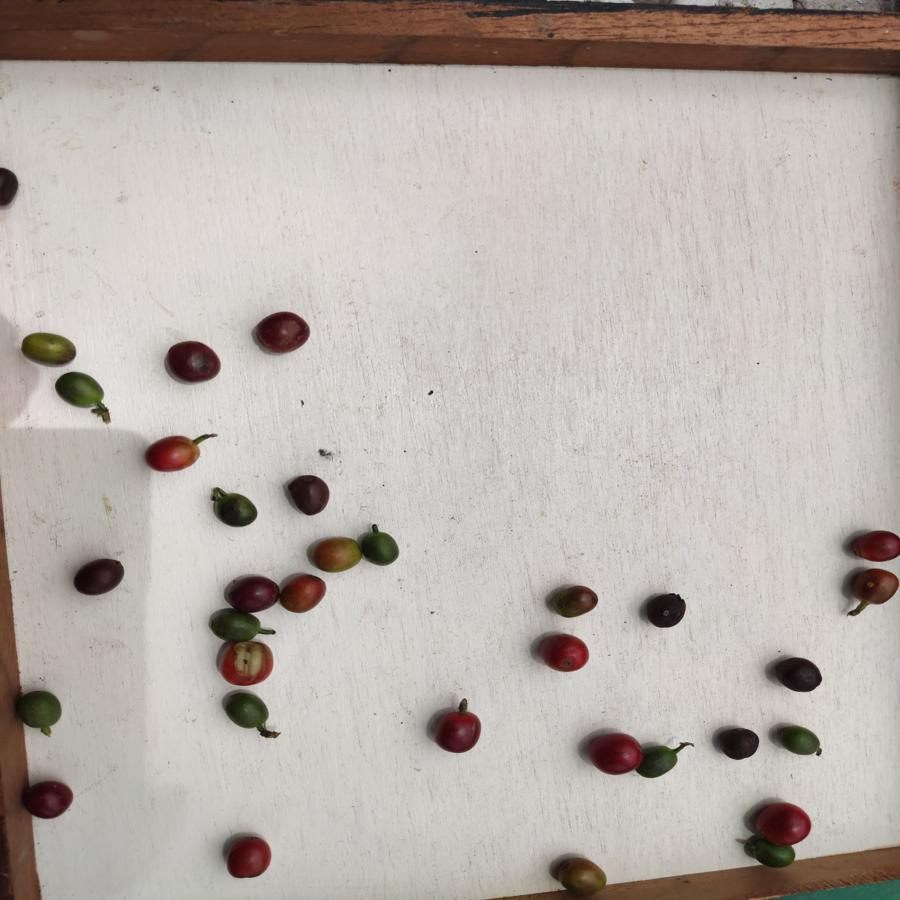Inmaduro: (54, 371, 107, 414), (15, 689, 63, 731), (210, 488, 259, 529), (224, 693, 271, 730), (774, 724, 822, 760), (208, 608, 261, 640), (360, 528, 399, 567), (640, 742, 680, 780), (748, 840, 796, 869)
Maduro: (750, 800, 812, 845), (216, 641, 274, 687), (588, 732, 640, 780), (143, 434, 201, 474), (536, 632, 592, 673), (225, 833, 272, 880), (850, 530, 900, 562)
Pinton: (18, 331, 76, 367), (555, 858, 608, 895), (847, 567, 899, 604), (310, 536, 361, 573), (279, 574, 325, 614), (548, 583, 597, 619)
Sobremaduro: (165, 339, 222, 382), (21, 778, 77, 821), (255, 311, 311, 352), (432, 710, 483, 754), (773, 653, 824, 694), (221, 575, 280, 610), (72, 559, 124, 597), (287, 473, 330, 517), (712, 724, 760, 762), (644, 592, 686, 629)
